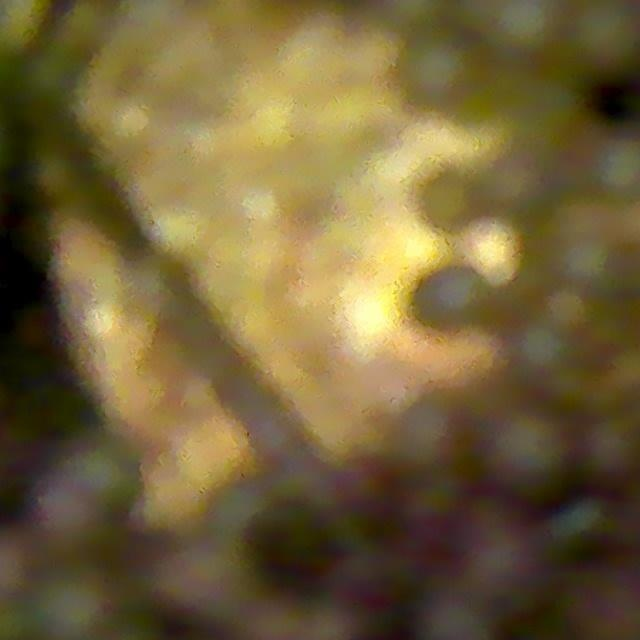SeaGrape: (484, 408, 570, 494), (26, 563, 119, 640), (397, 31, 482, 114), (412, 259, 495, 338), (390, 388, 467, 473), (569, 0, 640, 74), (486, 0, 569, 56), (578, 416, 640, 484), (417, 171, 475, 232)
